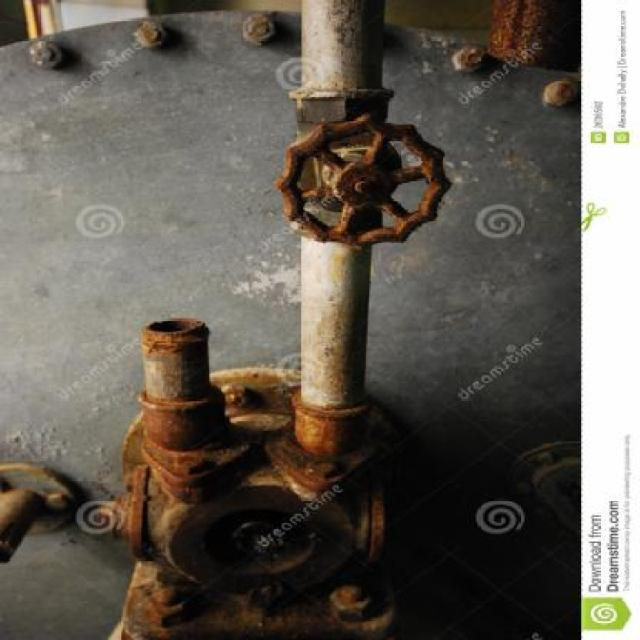corrosion: (80, 0, 458, 640)
